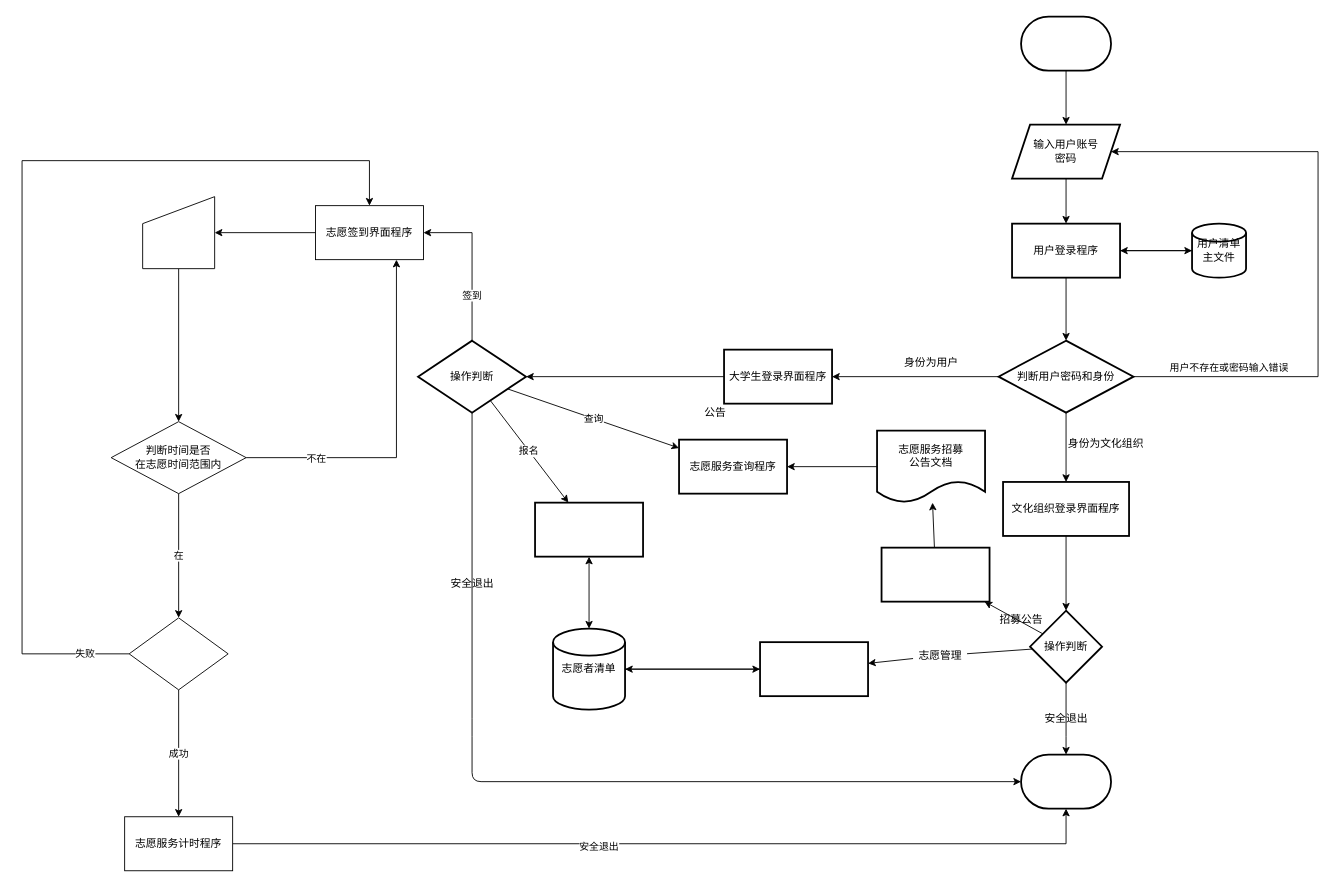
The diagram is 1341 pixels wide and 887 high, and some of its shapes have lost their labels. Each missing label, with the centre of its shape:
"判断是否成功" belongs at pixel 178 653.
"开始" belongs at pixel 1066 43.
"志愿服务报名程序" belongs at pixel 589 529.
"志愿服务招募 公告发布程序" belongs at pixel 935 574.
"志愿管理程序" belongs at pixel 813 669.
"扫描二维码" belongs at pixel 178 232.
"结束" belongs at pixel 1066 781.
